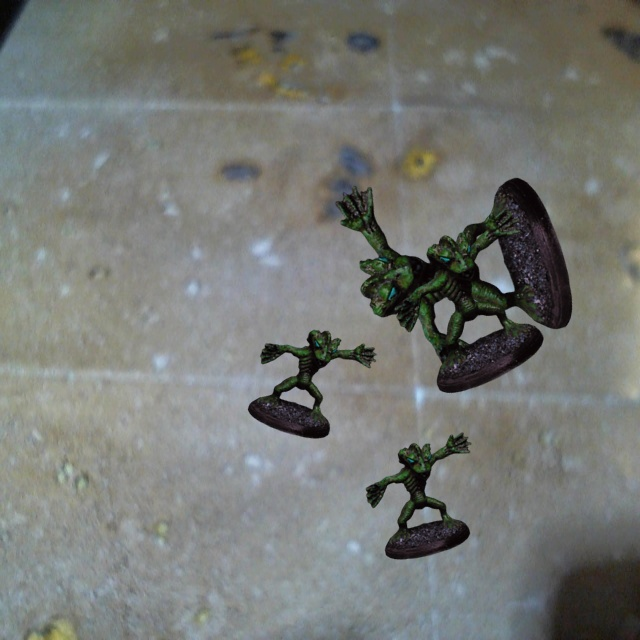pieza_juego: (335, 178, 571, 371), (394, 208, 543, 392), (248, 330, 376, 438), (366, 432, 471, 559)
